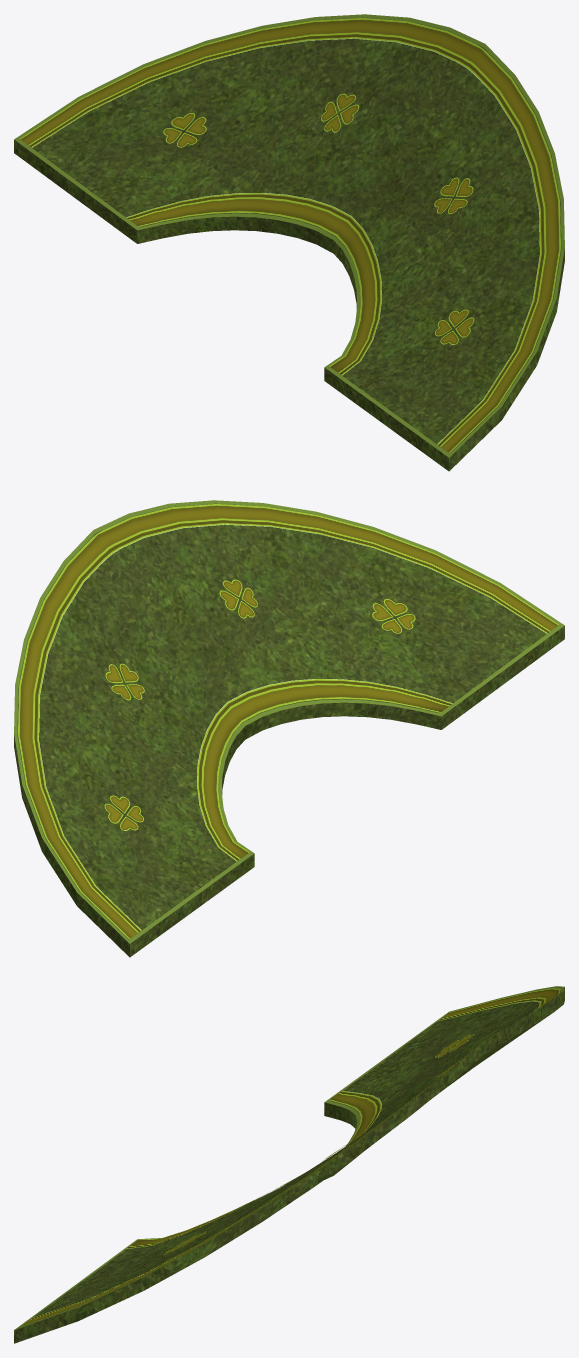
Rendered from mountain_curve.gltf.
3 views of the same model, one above another, from view 1: azimuth 30°, elevation 25°; view 2: azimuth 150°, elevation 25°; view 3: azimuth 330°, elevation 25° (orthographic).
Visible parts, largest first — view 1: mountain_curve_glb; view 2: mountain_curve_glb; view 3: mountain_curve_glb.
Boxes of the visible parts, x1,y1,x2,y2 form: mountain_curve_glb: (14, 14, 564, 471); mountain_curve_glb: (14, 500, 564, 957); mountain_curve_glb: (14, 986, 564, 1343).
Size of what is drawn, in the model's own units: 4.74 by 3.67 by 14.03.
2 materials, 2 textured.
